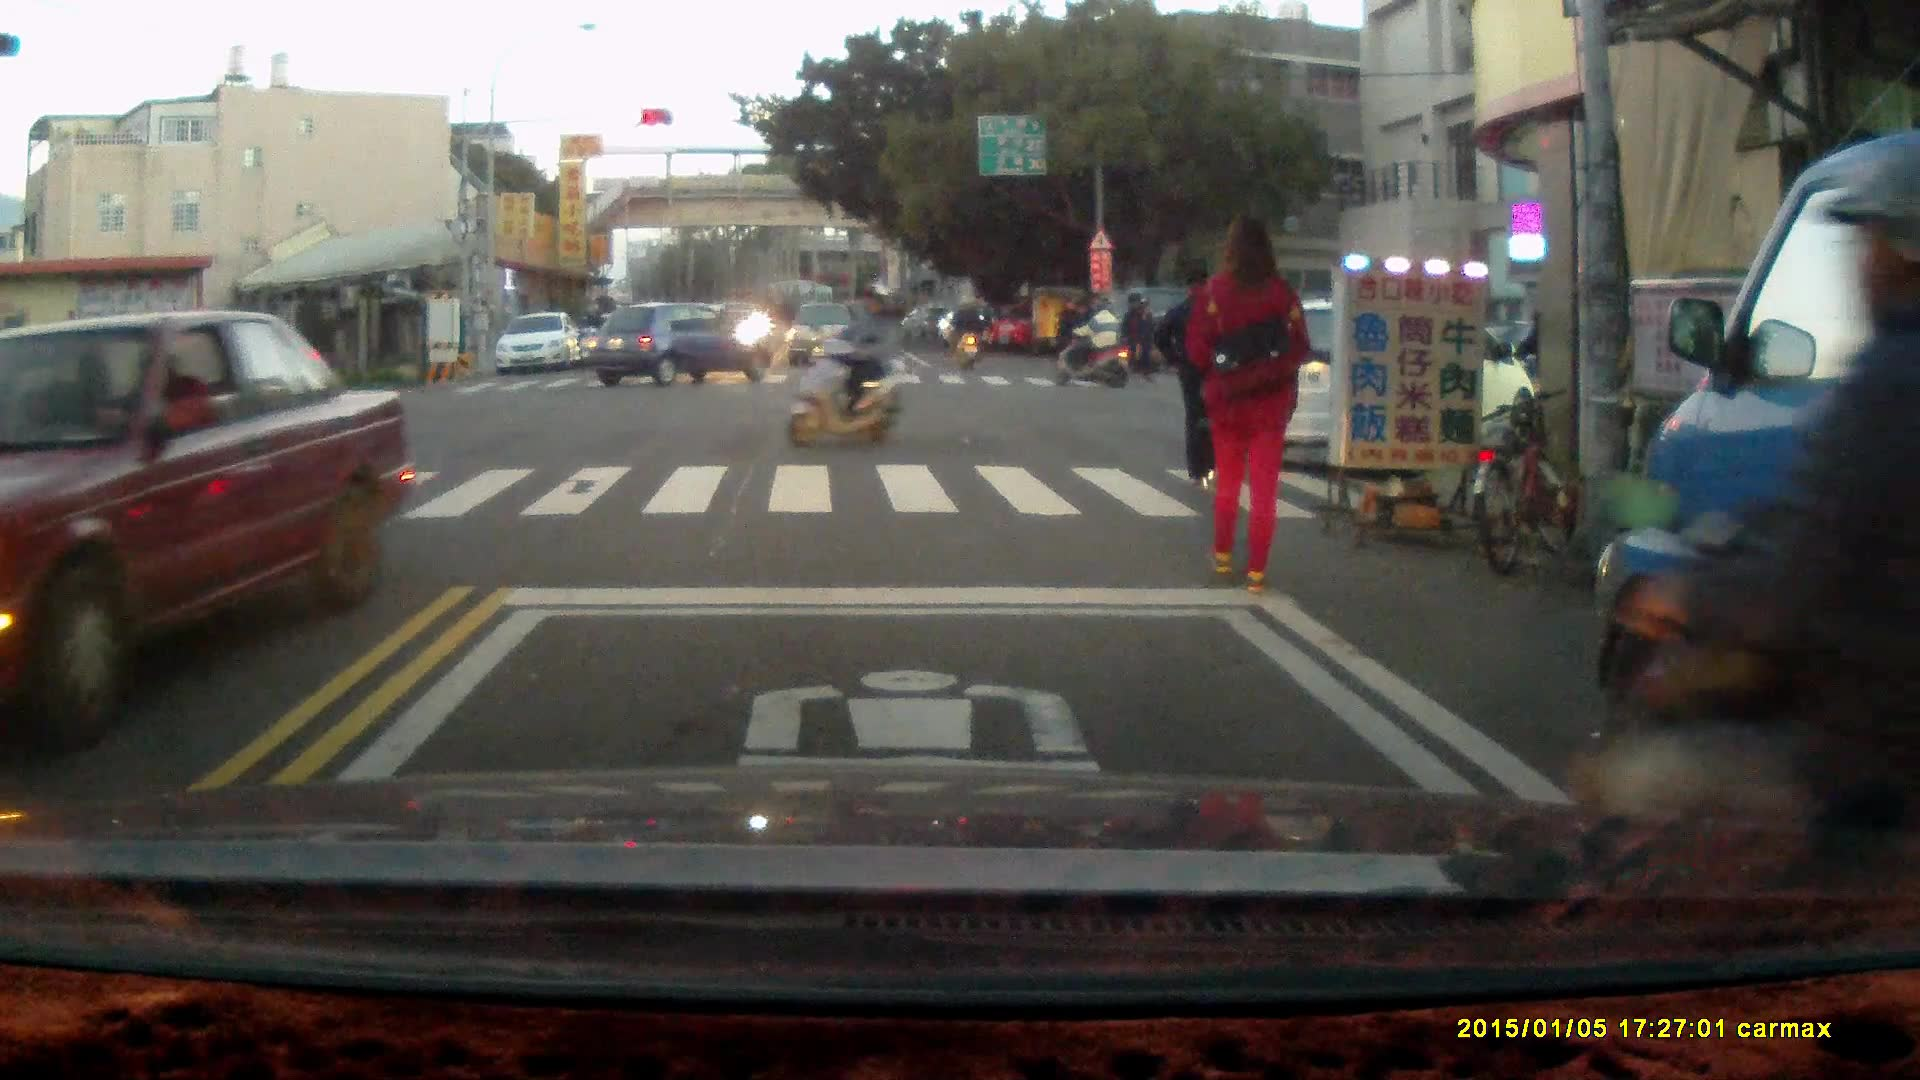pedestrian: (1179, 212, 1311, 594), (1159, 260, 1246, 491), (1126, 298, 1156, 379), (1053, 295, 1082, 377)
rider: (1574, 153, 1920, 875), (787, 284, 917, 450), (1051, 296, 1132, 387), (945, 292, 986, 371), (575, 302, 607, 369)
vehicle: (1598, 132, 1920, 877), (1, 311, 409, 751), (1233, 296, 1533, 459), (593, 304, 777, 390), (787, 301, 868, 374), (498, 313, 586, 377)
